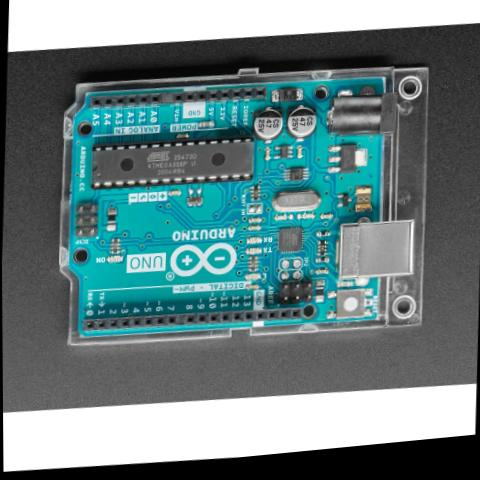Arduino-Uno: (63, 67, 421, 351)
